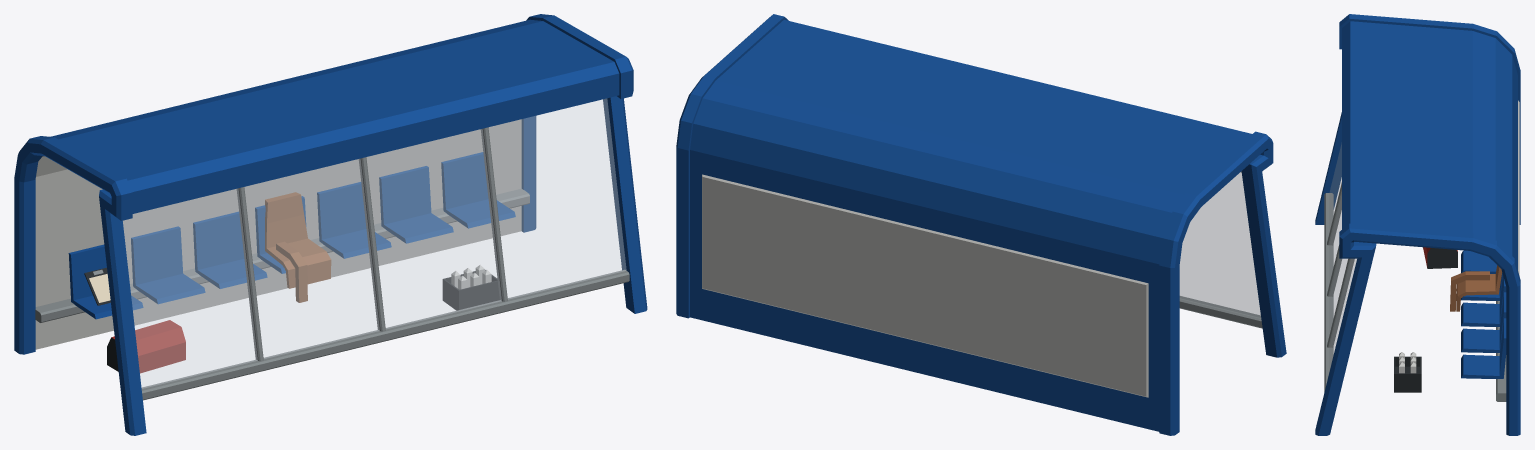
File: team-dugout-ddb70c.glb
The picture shows the model from 3 angles, left to right: view 1: azimuth 30°, elevation 25°; view 2: azimuth 150°, elevation 25°; view 3: azimuth 270°, elevation 25°; orthographic projection. The views are drawn at different scales.
Visible parts, largest first — view 1: dugout-shell, screen-glass, coat-mesh, kit-bags-mesh, bottle-crate-mesh, clipboard-mesh; view 2: dugout-shell, screen-glass; view 3: dugout-shell, screen-glass, coat-mesh, bottle-crate-mesh, kit-bags-mesh.
Part boxes in pixels (x1,y1,x2,y2): dugout-shell: [14, 14, 647, 435]; screen-glass: [123, 98, 626, 388]; coat-mesh: [265, 192, 331, 302]; kit-bags-mesh: [107, 320, 185, 373]; bottle-crate-mesh: [442, 265, 499, 310]; clipboard-mesh: [84, 267, 110, 305]; dugout-shell: [676, 14, 1286, 435]; screen-glass: [1180, 172, 1260, 317]; dugout-shell: [1315, 14, 1520, 435]; screen-glass: [1329, 143, 1356, 370]; coat-mesh: [1450, 265, 1502, 311]; bottle-crate-mesh: [1394, 352, 1421, 392]; kit-bags-mesh: [1423, 247, 1457, 268].
Size of the model in its own units: 5 by 2.22 by 2.
